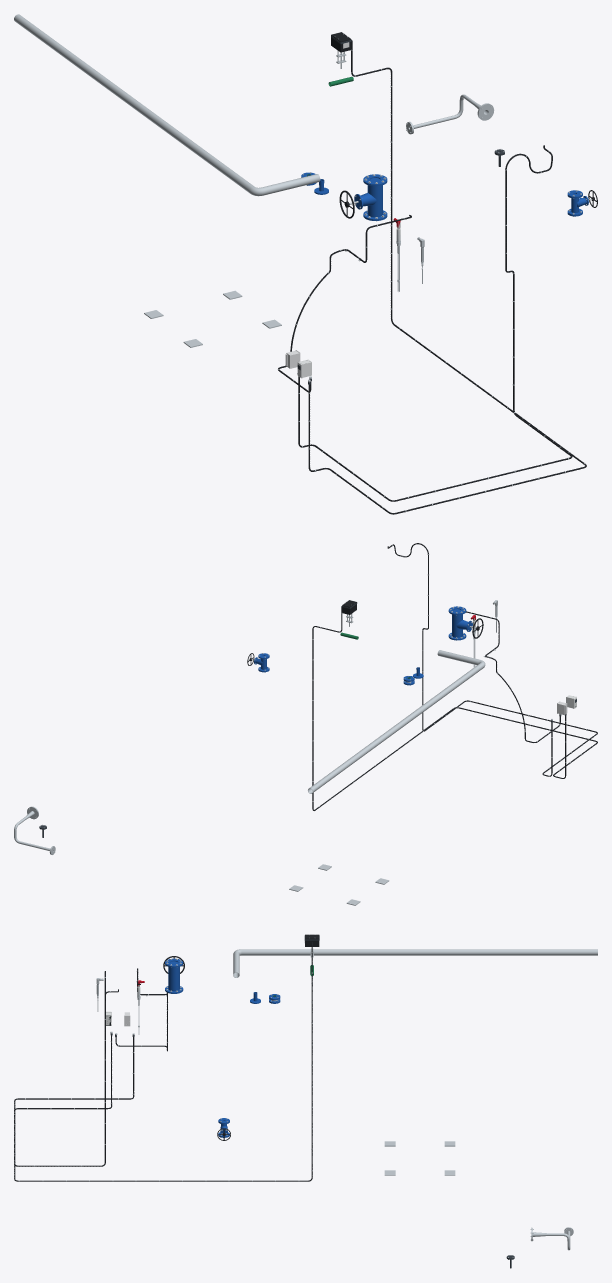
3 views of the same model, one above another, from view 1: azimuth 30°, elevation 25°; view 2: azimuth 150°, elevation 25°; view 3: azimuth 270°, elevation 25° (orthographic). The views are drawn at different scales.
Parts seen in each view (by area): view 1: safety_vent_1 / steel, mod_direct_drive_cable / black, wiring_pressure_transmitter / black, steam_manual / blue, fv_to_trap_gap / steel; view 2: safety_vent_1 / steel, mod_direct_drive_cable / black, wiring_pressure_transmitter / black, steam_manual / blue; view 3: safety_vent_1 / steel, mod_direct_drive_cable / black, wiring_pressure_transmitter / black, steam_manual / blue.
Part boxes in pixels (x1,y1,x2,y2): safety_vent_1 / steel: (14,14,320,196); mod_direct_drive_cable / black: (308,40,586,514); wiring_pressure_transmitter / black: (298,145,572,501); steam_manual / blue: (354,174,387,220); fv_to_trap_gap / steel: (406,94,494,134); safety_vent_1 / steel: (308,650,485,793); mod_direct_drive_cable / black: (312,606,597,810); wiring_pressure_transmitter / black: (387,543,597,776); steam_manual / blue: (448,606,472,640); safety_vent_1 / steel: (233,949,597,977); mod_direct_drive_cable / black: (14,943,312,1181); wiring_pressure_transmitter / black: (14,971,134,1166); steam_manual / blue: (165,958,183,993).
Size of the model in its own units: 4.99 by 3.24 by 7.03.
